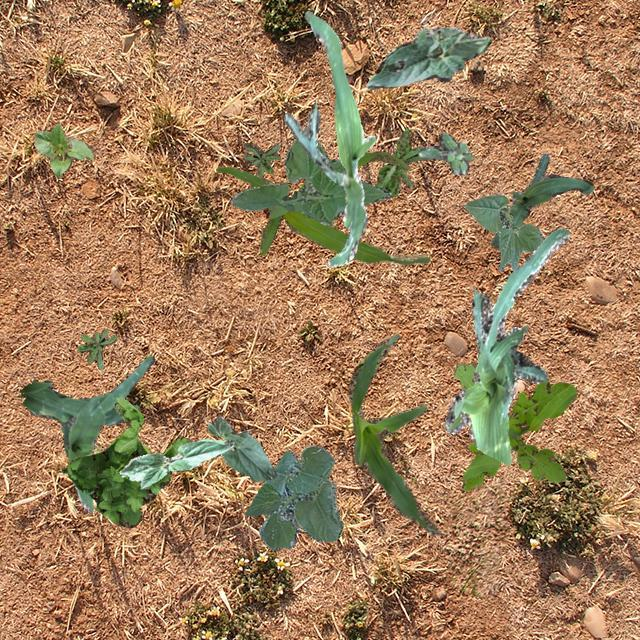crop: (443, 226, 568, 464), (216, 150, 428, 264), (282, 10, 374, 266), (18, 356, 154, 512), (348, 332, 442, 534), (230, 136, 390, 225), (244, 444, 342, 550), (490, 152, 592, 246), (366, 26, 490, 88), (464, 193, 542, 270), (119, 438, 234, 488), (206, 414, 274, 480), (32, 122, 94, 178)
weed: (60, 396, 192, 526), (452, 362, 576, 489), (374, 127, 422, 195), (418, 132, 472, 174), (76, 328, 115, 368), (242, 142, 280, 178)
